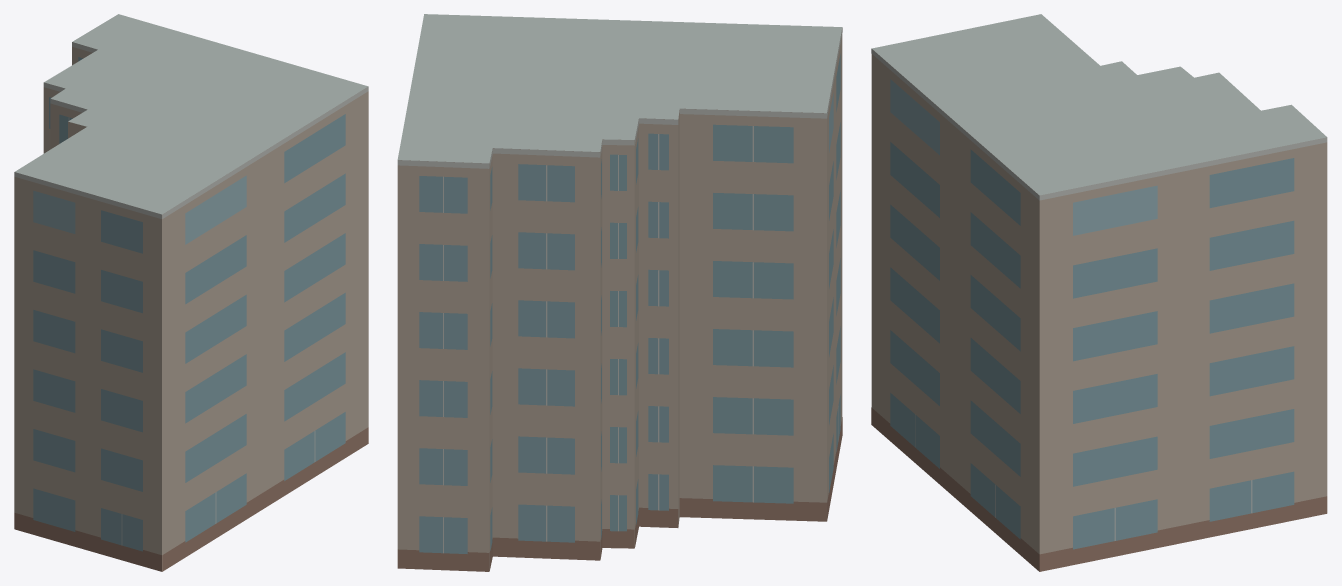
The model's file is survey-upis-32626576.glb.
3 views of the same model, side by side, from view 1: azimuth 30°, elevation 25°; view 2: azimuth 150°, elevation 25°; view 3: azimuth 270°, elevation 25° (orthographic). The views are drawn at different scales.
Visible parts, largest first — view 1: survey-upis-32626576.tmp; view 2: survey-upis-32626576.tmp; view 3: survey-upis-32626576.tmp.
Boxes of the visible parts, box(x1,y1,x2,y2) form: survey-upis-32626576.tmp: box(14, 14, 368, 571); survey-upis-32626576.tmp: box(397, 14, 842, 571); survey-upis-32626576.tmp: box(871, 14, 1327, 571).
Bounding box in the file's own units: 18.94 × 18.3 × 20.1.
